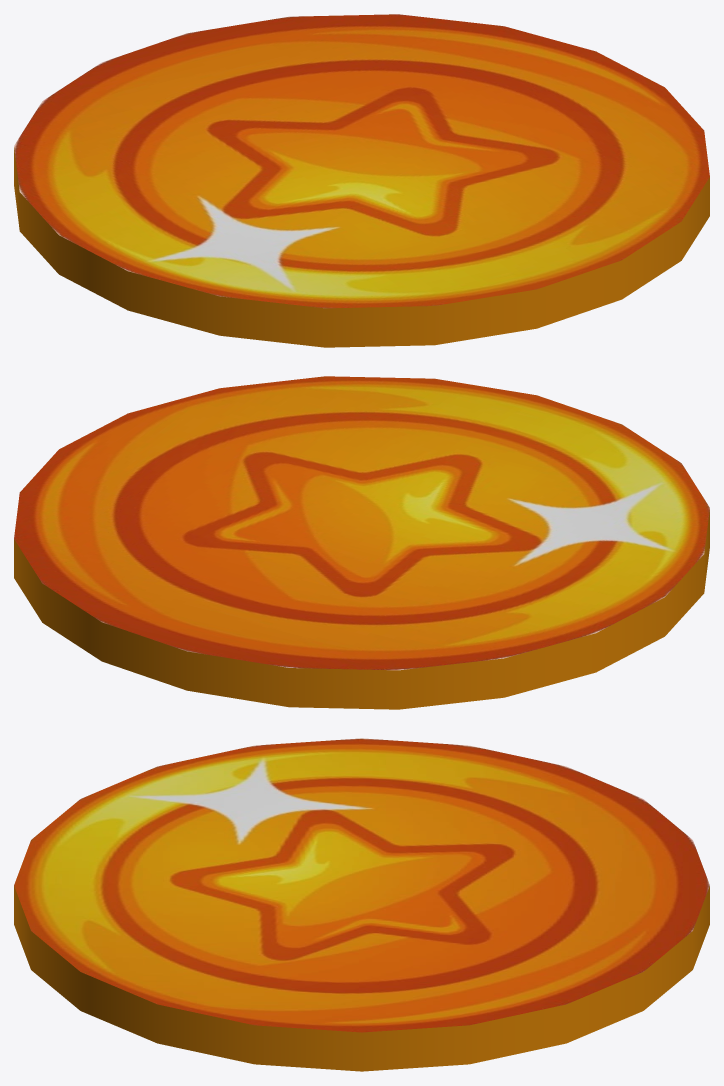
File: moneda.fbx
3 renders of one model, top to bottom at view 1: azimuth 30°, elevation 25°; view 2: azimuth 150°, elevation 25°; view 3: azimuth 270°, elevation 25°, orthographic.
Parts seen in each view (by area): view 1: Cylinder001; view 2: Cylinder001; view 3: Cylinder001.
Part boxes in pixels (x1,y1,x2,y2): Cylinder001: [14, 14, 709, 347]; Cylinder001: [14, 376, 709, 709]; Cylinder001: [14, 738, 709, 1071].
Size of the model in its own units: 53.36 by 3.31 by 53.36.
Materials: 1 (1 with a texture image).
